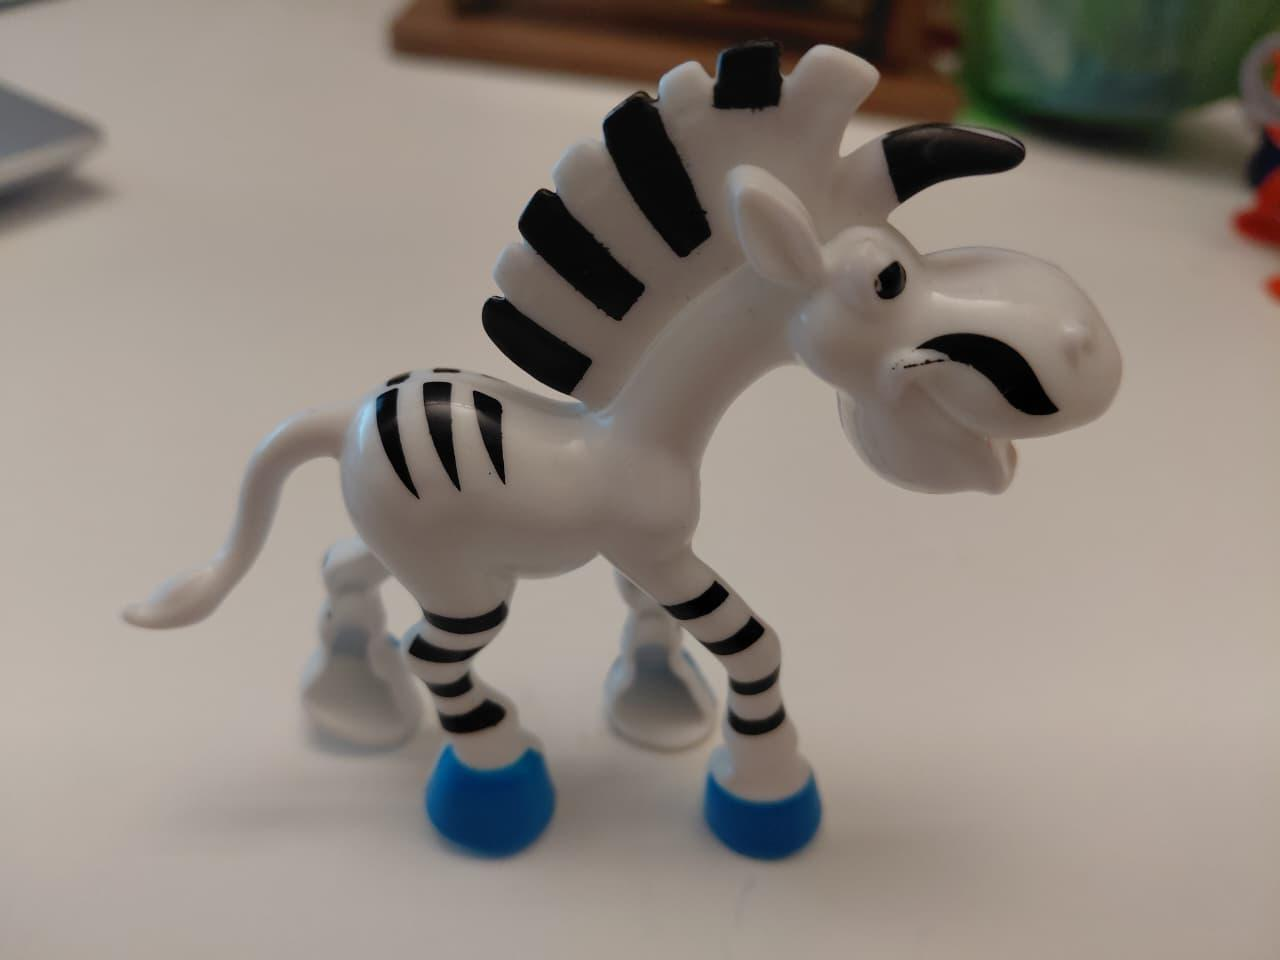zebra: (56, 28, 1138, 885)
